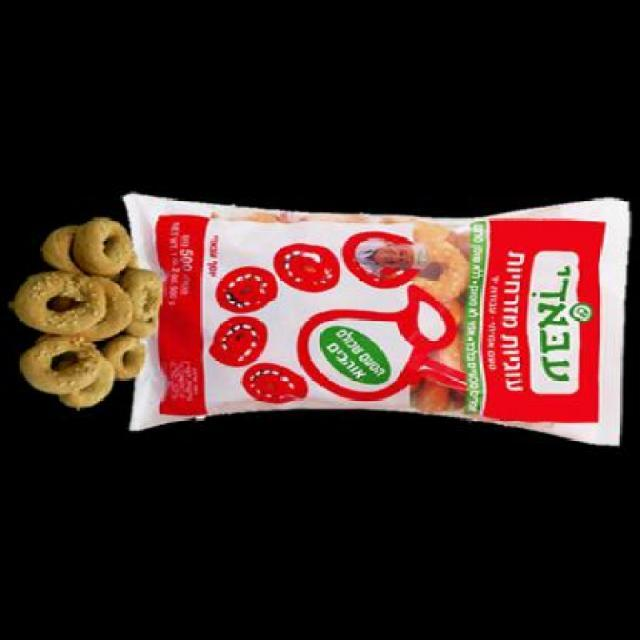Taralli: (18, 214, 160, 412)
